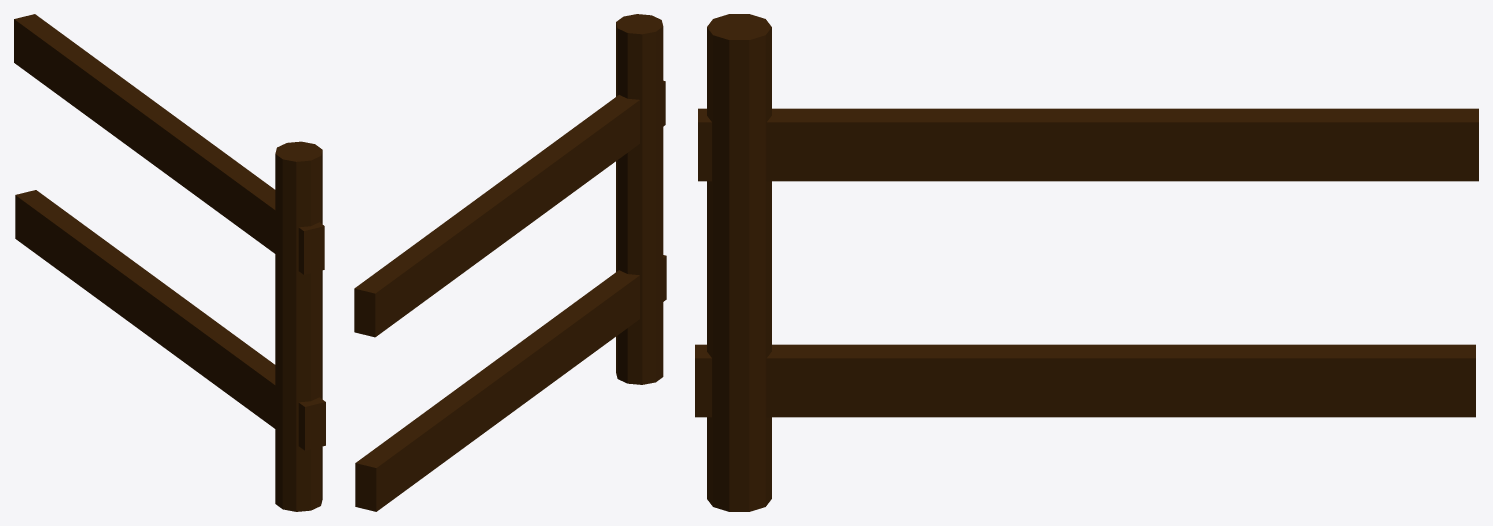
File: Fence_Single_Post_v001.fbx
3 views of the same model, side by side, from view 1: azimuth 30°, elevation 25°; view 2: azimuth 150°, elevation 25°; view 3: azimuth 270°, elevation 25° (orthographic). The views are drawn at different scales.
Visible parts, largest first — view 1: Slat_2, Slat_1, Fence_Post; view 2: Slat_1, Slat_2, Fence_Post; view 3: Slat_2, Slat_1, Fence_Post.
Boxes of the visible parts, bbox=[...] form: Slat_2: bbox=[15, 190, 325, 450]; Slat_1: bbox=[14, 14, 324, 274]; Fence_Post: bbox=[275, 141, 322, 511]; Slat_1: bbox=[354, 80, 665, 337]; Slat_2: bbox=[355, 255, 666, 511]; Fence_Post: bbox=[616, 14, 663, 384]; Slat_2: bbox=[695, 344, 1475, 417]; Slat_1: bbox=[698, 108, 1478, 181]; Fence_Post: bbox=[707, 14, 771, 511].
Bounding box in the file's own units: 47.55 × 400 × 602.
